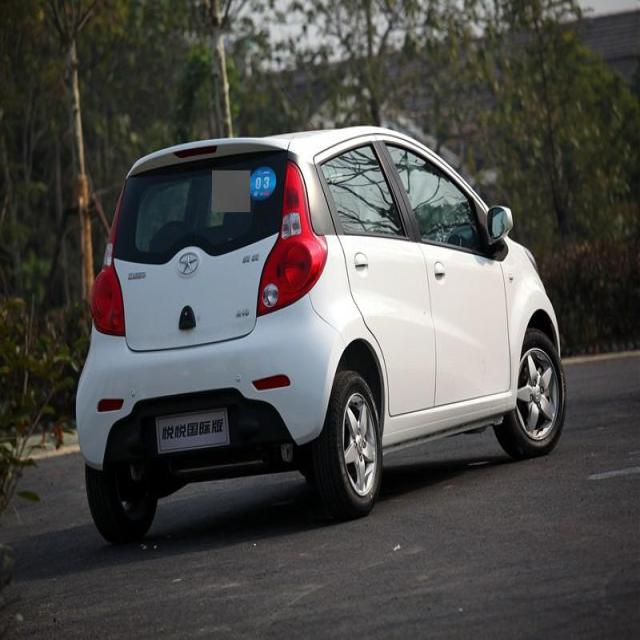back_glass: (114, 148, 288, 265)
back_left_side_light: (88, 170, 133, 337)
back_right_side_light: (255, 156, 329, 319)
door: (320, 141, 438, 430)
front_right_side_door: (378, 128, 516, 413)
front_right_side_mirror: (484, 198, 514, 252)
rear_bumper: (75, 297, 335, 469)
wheel: (500, 334, 566, 455), (326, 370, 380, 514), (87, 471, 165, 546)
